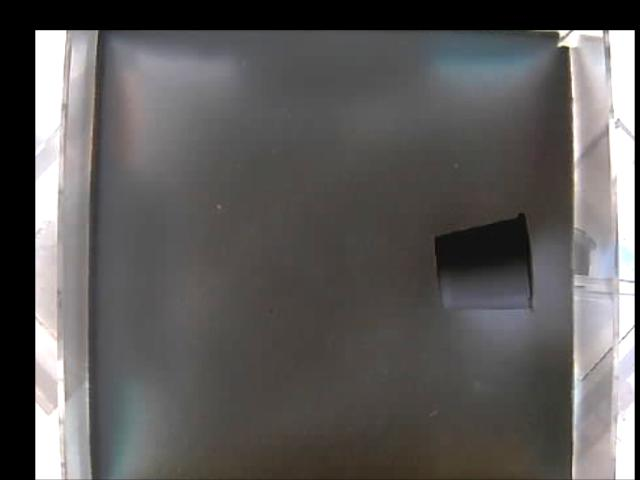Cup: (433, 210, 538, 313)
